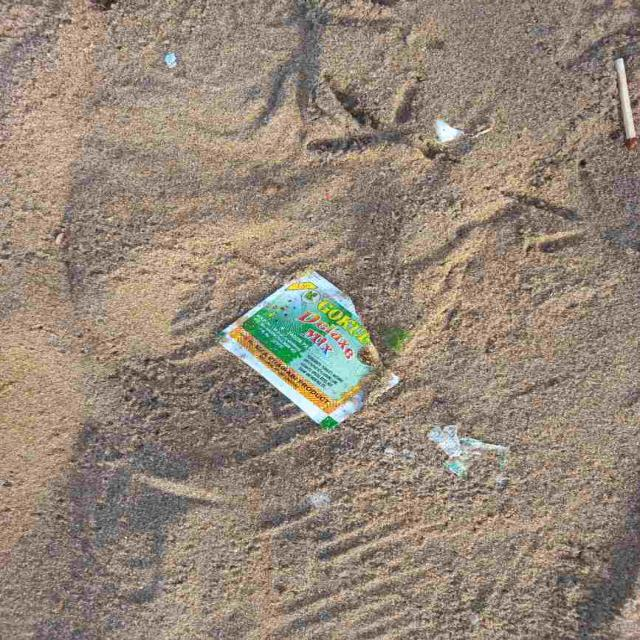bao_bi_thuc_pham: (221, 271, 380, 429)
rac_huu_co: (616, 58, 639, 150)
